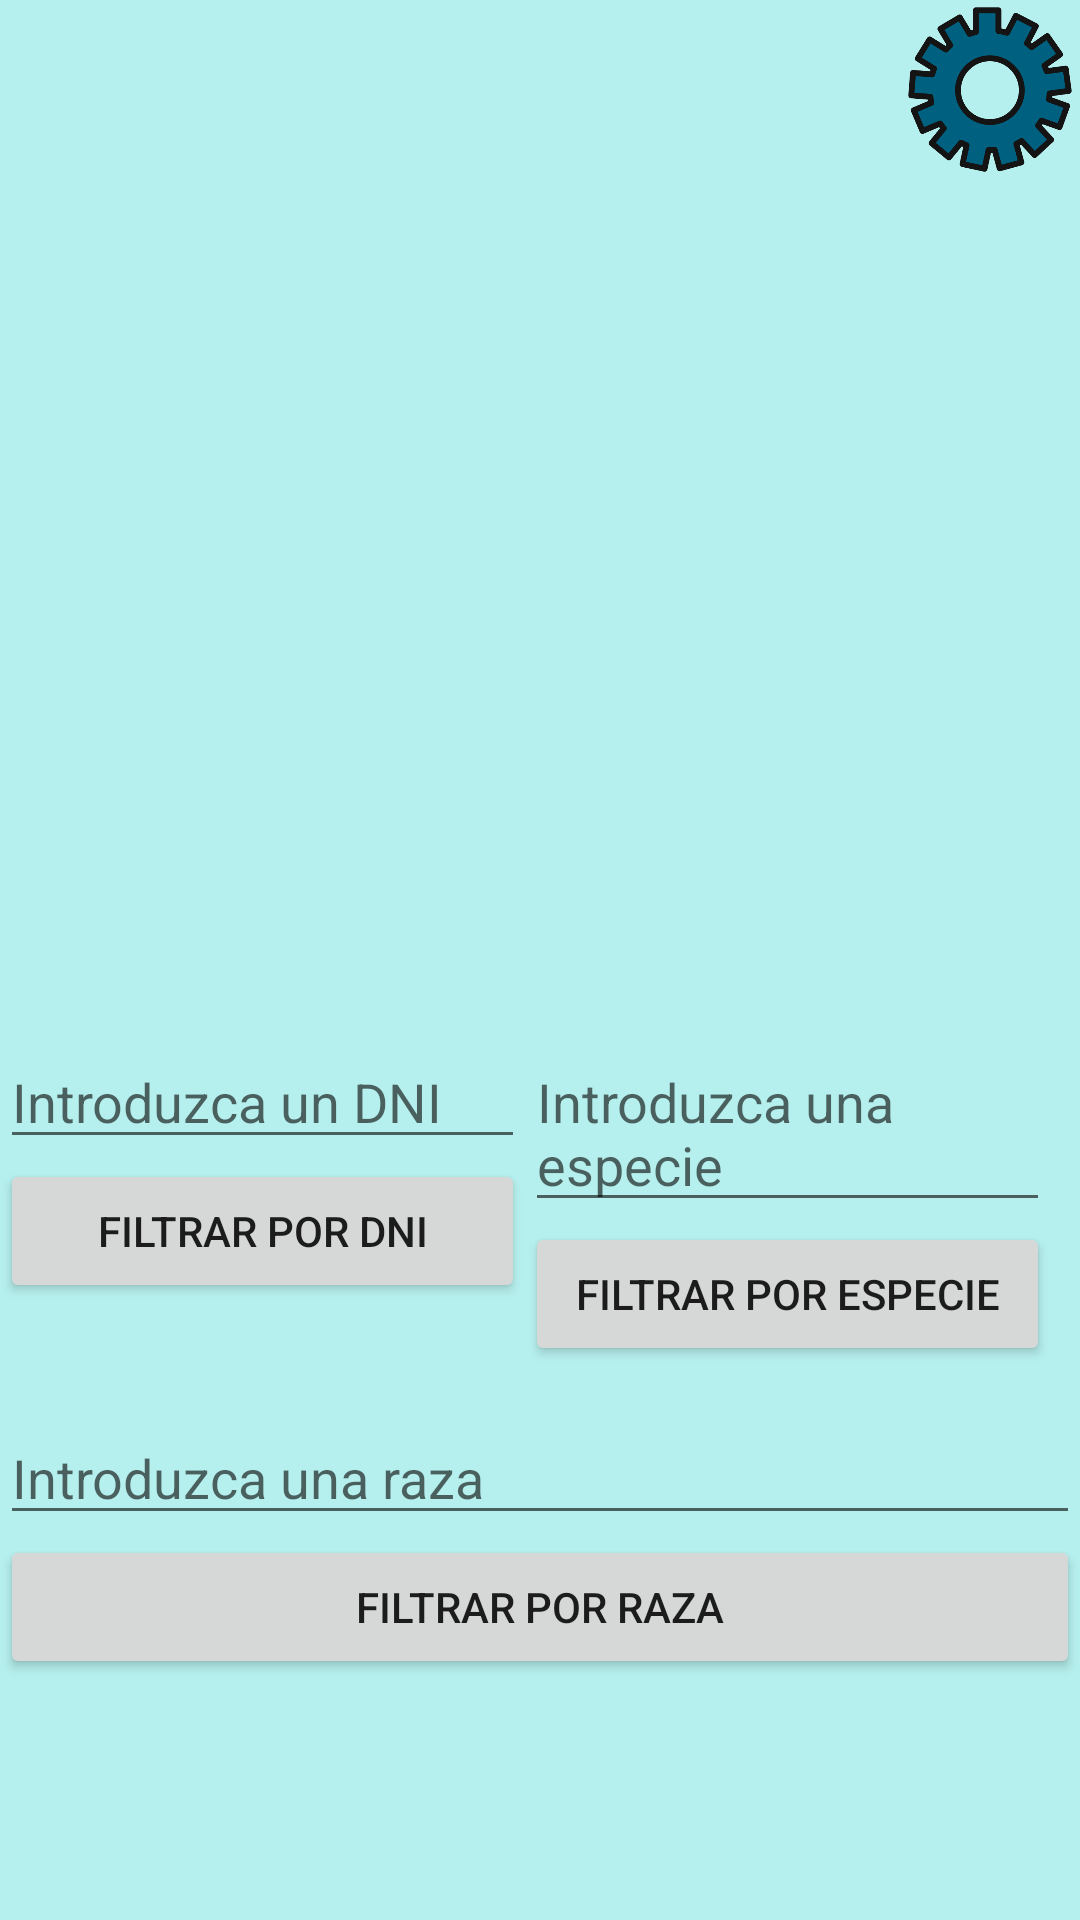

Locate icon controls on the screen. Image size 1080*1920, boxes as (x1, y1, x2, y2).
ajustes tienda mascotas: (908, 7, 1072, 172)
